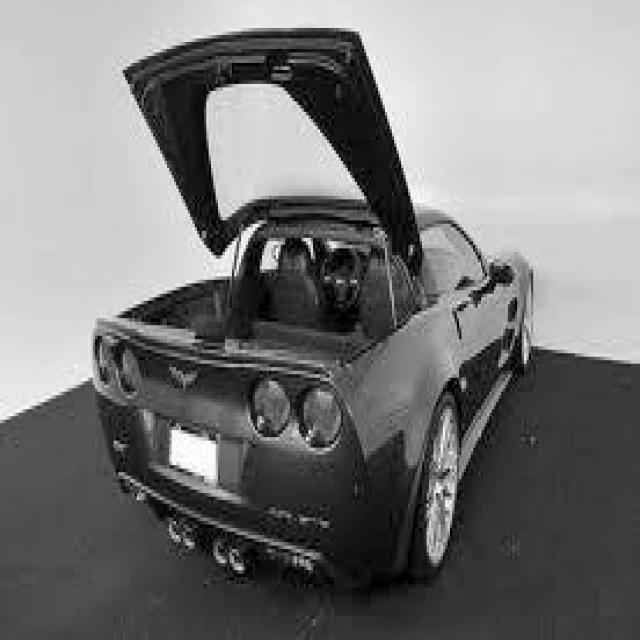car: (90, 25, 534, 588)
